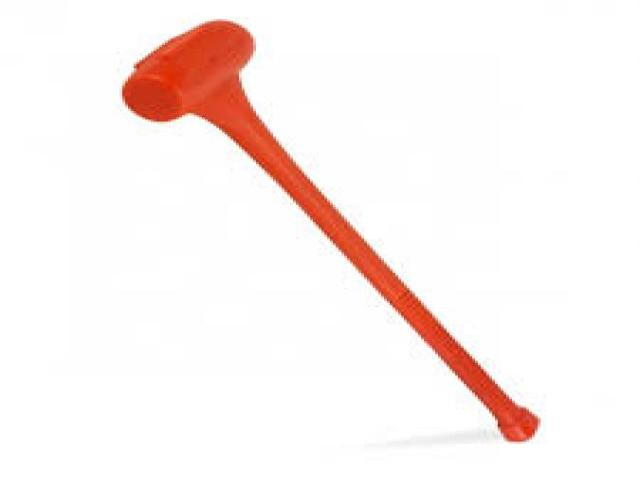hammer: (122, 19, 541, 443)
